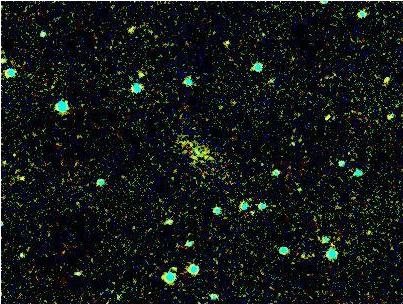star: (369, 64, 399, 94)
